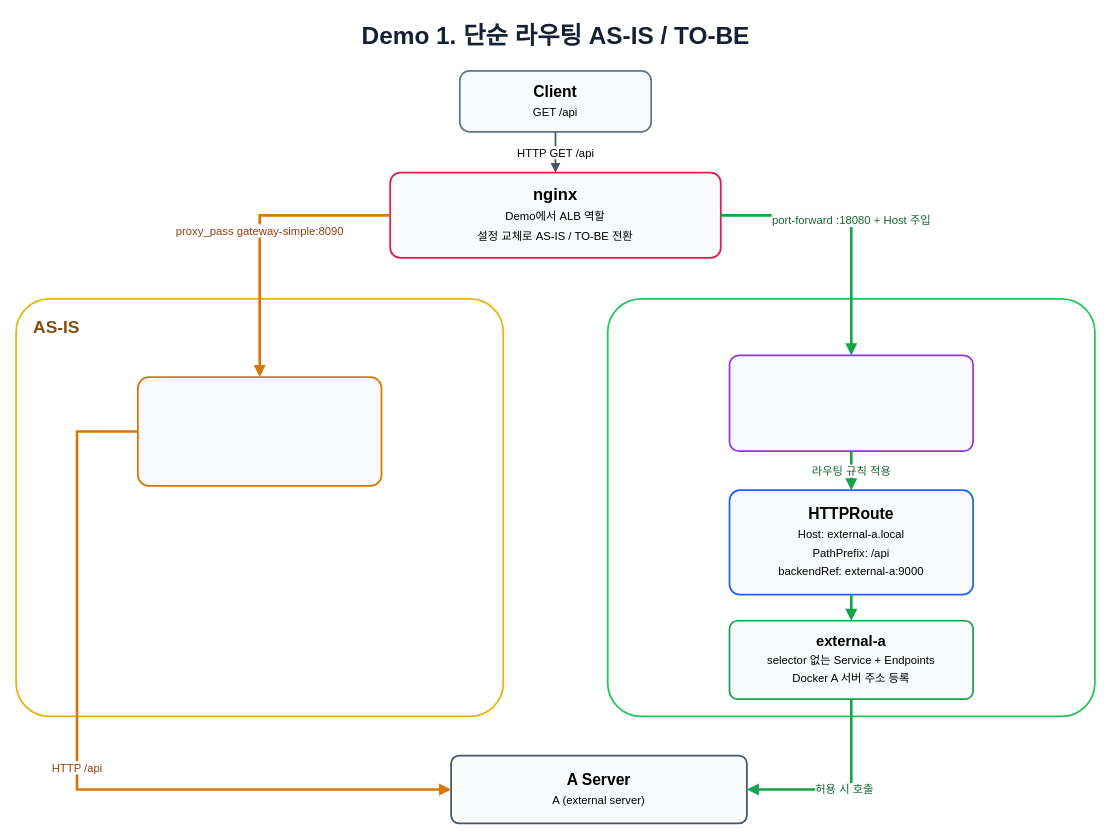
Image size: 1110x839. Some labels were removed from this diagram. Here are the shapes that lost their labels. From the top down, the box of each, then its label:
(728, 354, 974, 452): Istio Gateway (Envoy) Gateway API로 자동 생성 demo-gw-istio Deployment + Service
(137, 376, 382, 486): Spring Cloud Gateway 역방향 프록시 A 서버 호출 후 응답 가공 Gateway Result -> prefix 추가
(606, 298, 1095, 717): TO-BE
